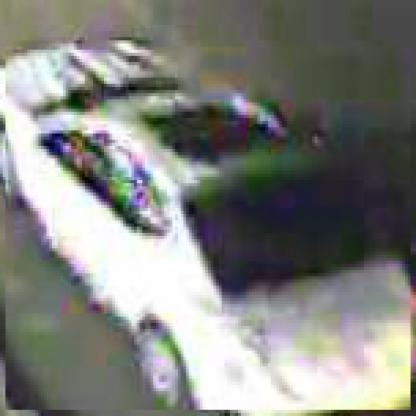car: (4, 41, 412, 414)
